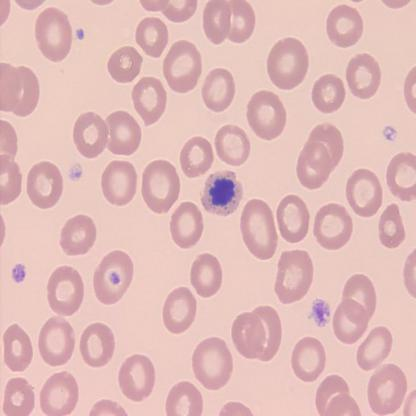NRC: (200, 166, 246, 219)
